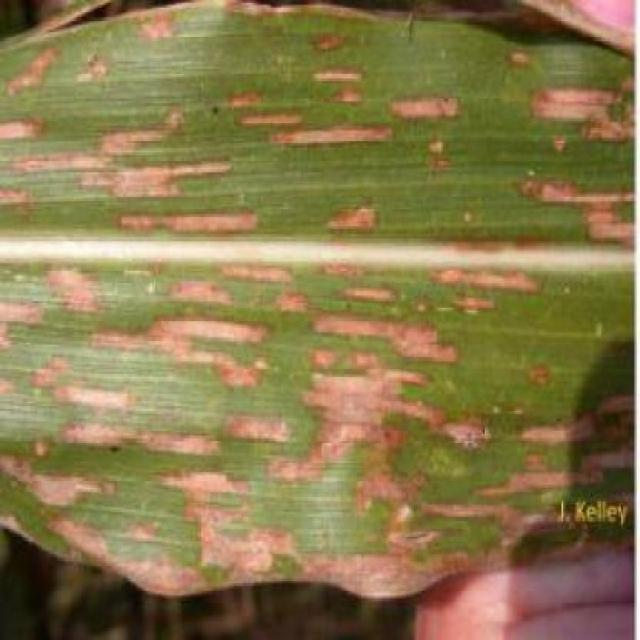Corn_Grey_Leaf_Spot: (2, 0, 546, 591)
